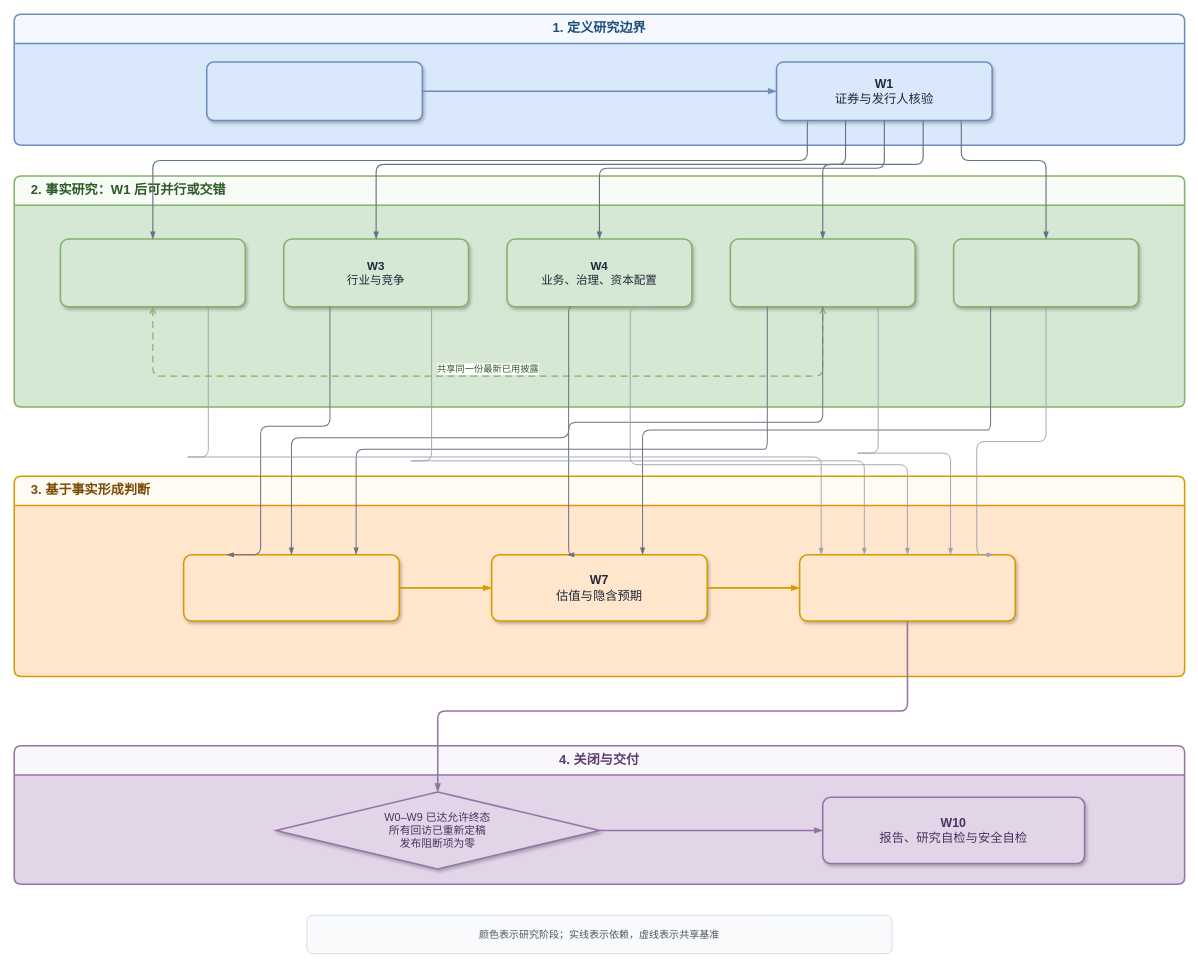
This 1198x967 diagram has some shape labels left out. Each missing label, with the centre of its shape:
"W0 任务、授权、as_of" goes at point (315, 92).
"W2 增量披露与事件" goes at point (153, 274).
"W5 财务验证" goes at point (823, 274).
"W6 预测与受限情景" goes at point (291, 589).
"W8 市场状态与近期信号" goes at point (1046, 274).
"W9 论点、反证与监控" goes at point (907, 589).
